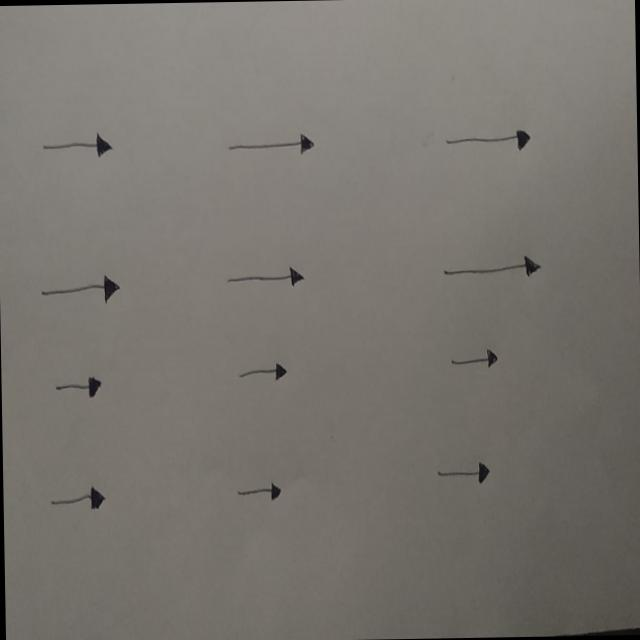arrow_line_right: (226, 124, 318, 167), (439, 251, 542, 289), (444, 120, 534, 162), (38, 269, 124, 308), (38, 124, 114, 166), (222, 260, 306, 294), (434, 450, 492, 496), (47, 480, 109, 519), (233, 470, 286, 510), (446, 342, 502, 377), (52, 366, 106, 402), (235, 354, 290, 388)
